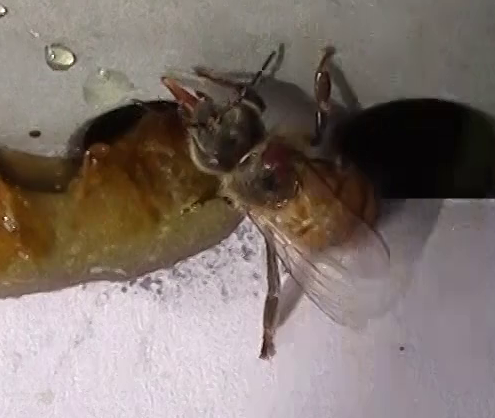Varroa destructor: (258, 141, 295, 174)
